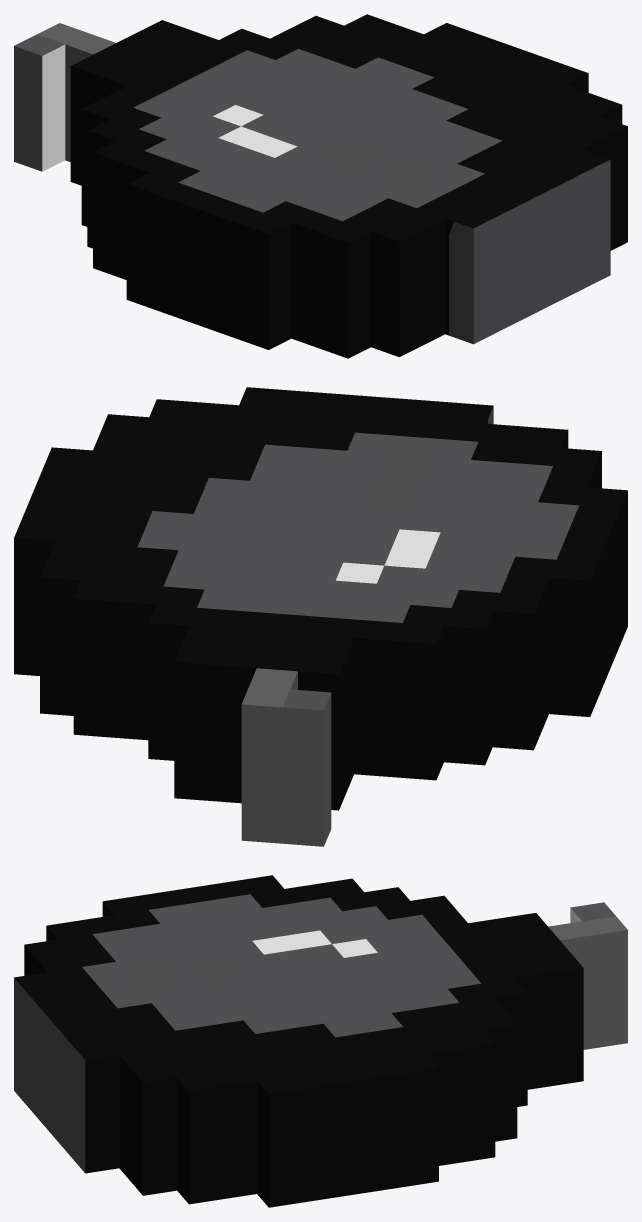
Rendered from flat-bomb.glb.
The picture shows the model from 3 angles, top to bottom: view 1: azimuth 30°, elevation 25°; view 2: azimuth 150°, elevation 25°; view 3: azimuth 270°, elevation 25°; orthographic projection. The views are drawn at different scales.
Parts seen in each view (by area): view 1: bomb; view 2: bomb; view 3: bomb.
Part boxes in pixels (x1=…): bomb: x1=14, y1=14, x2=627, y2=358; bomb: x1=14, y1=387, x2=627, y2=846; bomb: x1=14, y1=875, x2=627, y2=1207.
Size of the model in its own units: 0.3941 by 0.0949 by 0.4663.
Materials: 1 (1 with a texture image).
